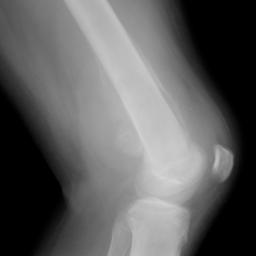cancer: (97, 32, 193, 163)
